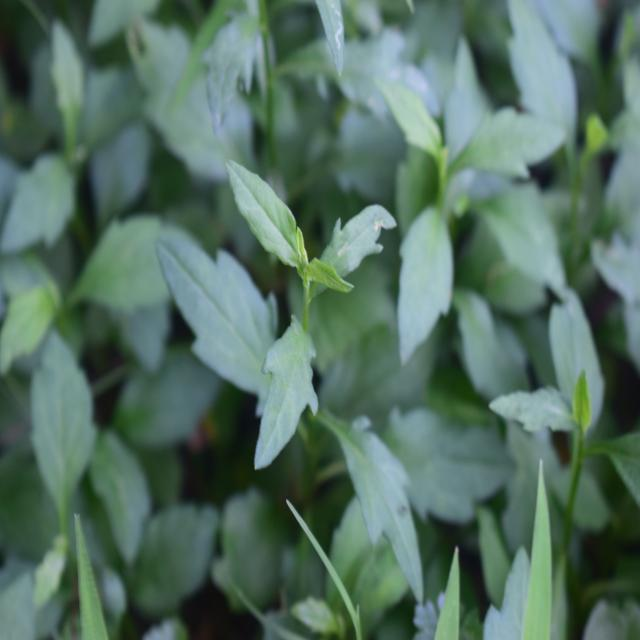Indian aster: (164, 166, 420, 557)
